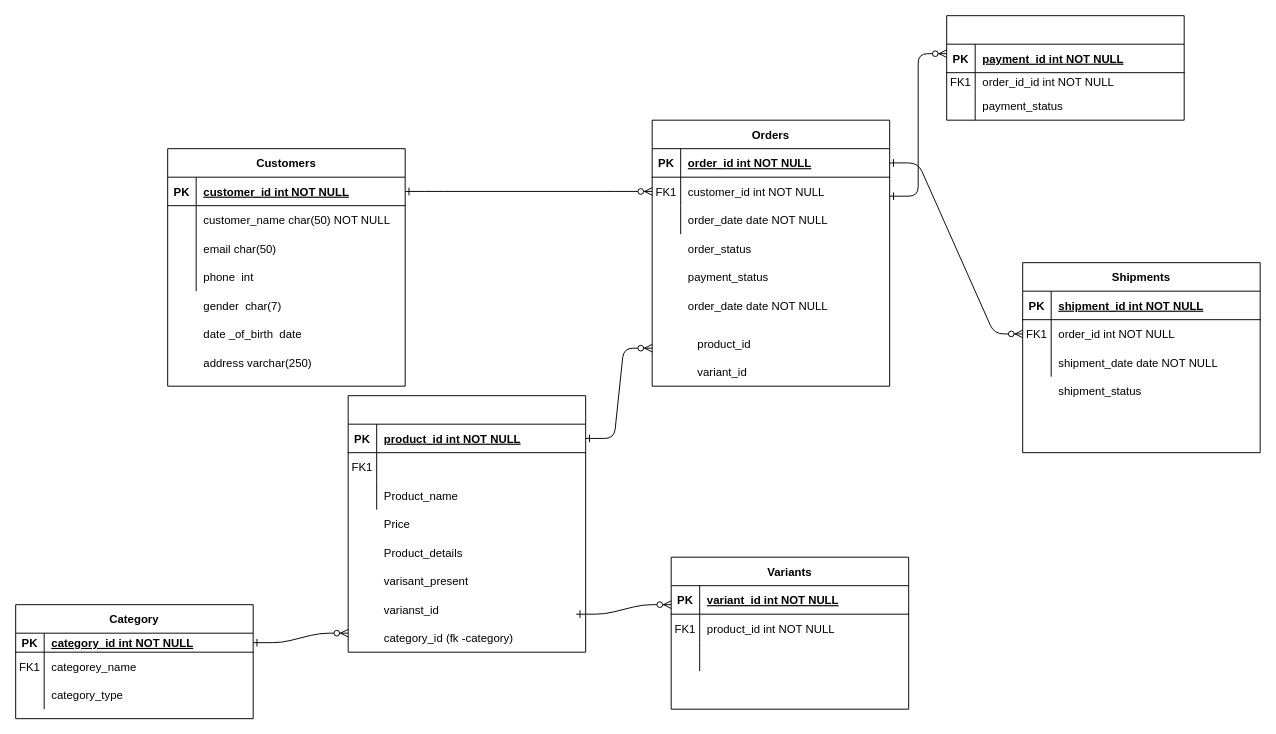
This 1276x734 diagram has some shape labels left out. Here are the shapes that lost their labels. From the top down, the box of each, then its label:
(946, 15, 1184, 120): Transactions
(347, 395, 586, 652): Products
